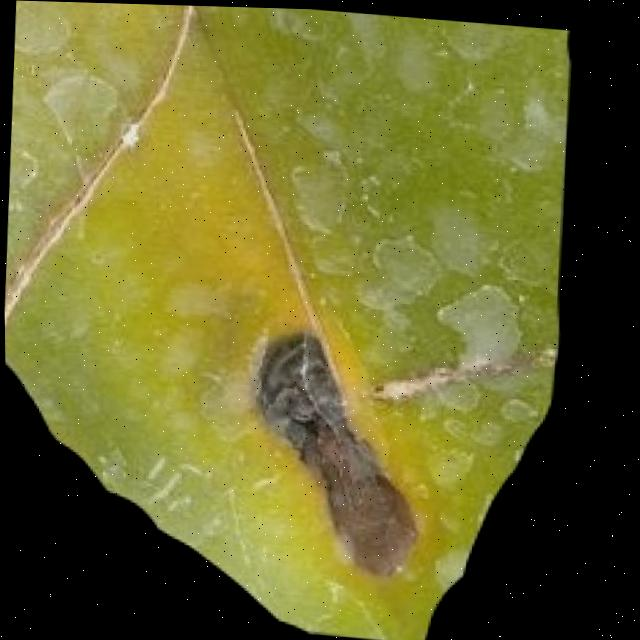mite: (245, 324, 344, 451)
sunburn: (235, 319, 430, 581)
